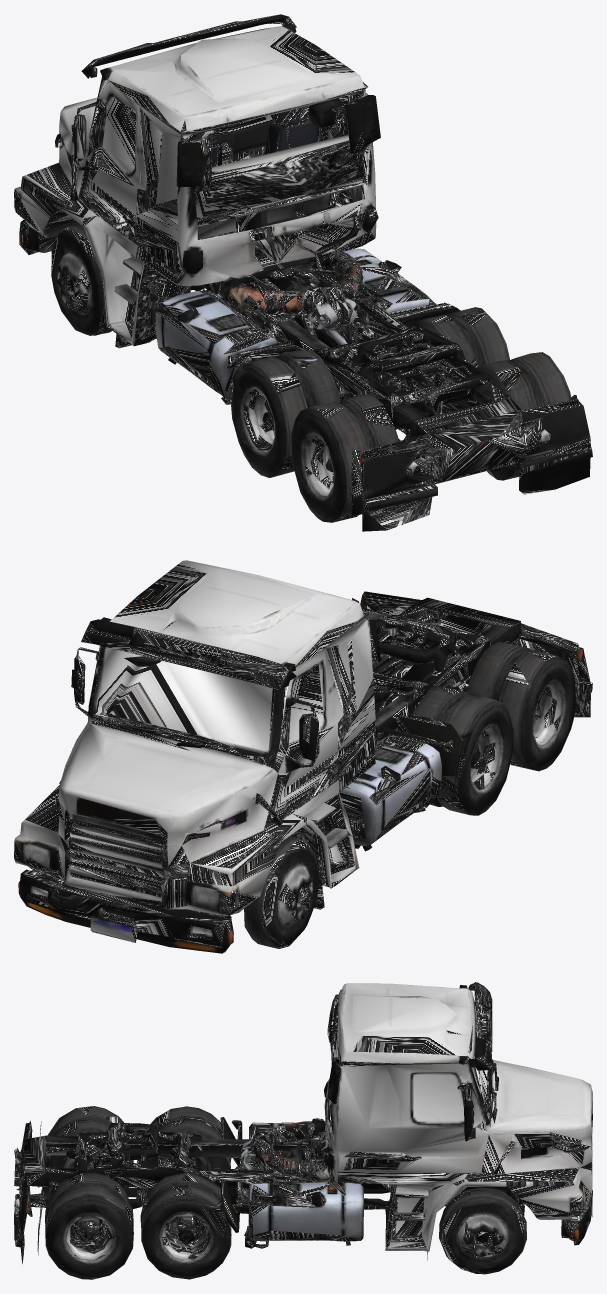
The model's file is cavalo.glb.
3 views of the same model, one above another, from view 1: azimuth 30°, elevation 25°; view 2: azimuth 150°, elevation 25°; view 3: azimuth 270°, elevation 25° (orthographic). The views are drawn at different scales.
Parts seen in each view (by area): view 1: corpo; view 2: corpo; view 3: corpo.
Part boxes in pixels (x1,y1,x2,y2): corpo: [14, 14, 592, 531]; corpo: [14, 560, 592, 953]; corpo: [14, 982, 592, 1279].
Size of the model in its own units: 2.55 by 2.84 by 6.6.
1 material, 1 textured.
